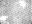person: (18, 2, 26, 8), (0, 16, 6, 22)
